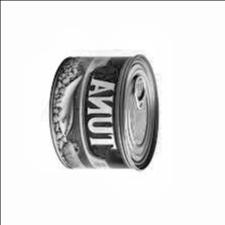can: (30, 42, 176, 182)
